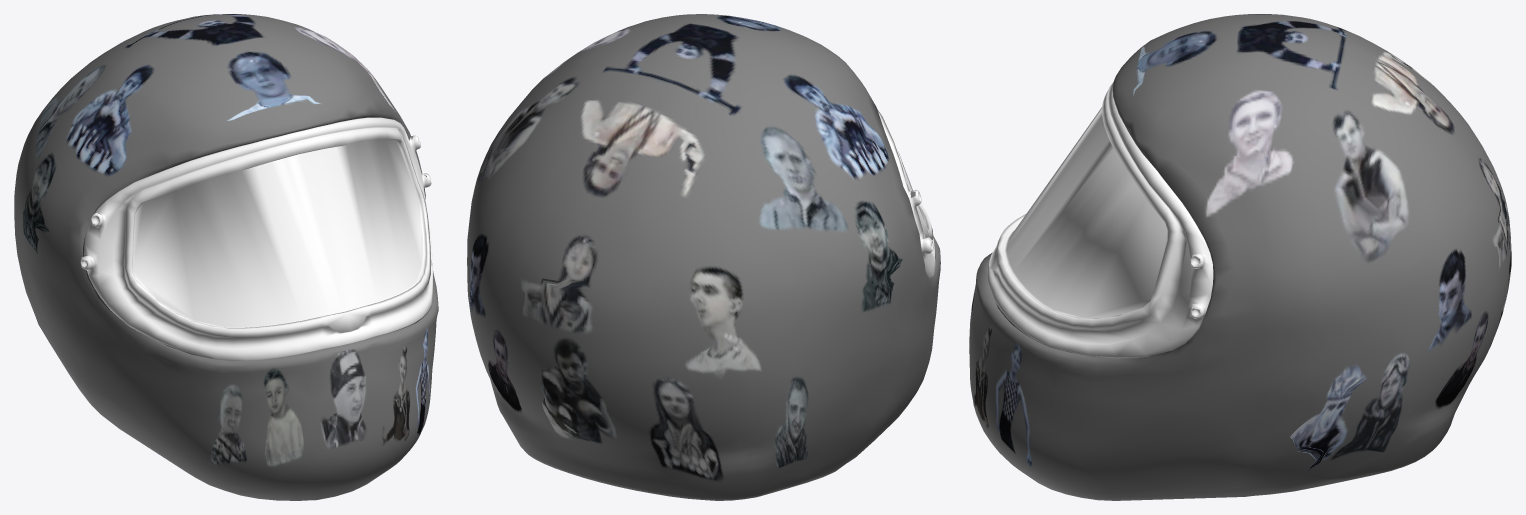
File: CascoVlad13_compressed.glb
3 views of the same model, side by side, from view 1: azimuth 30°, elevation 25°; view 2: azimuth 150°, elevation 25°; view 3: azimuth 270°, elevation 25° (orthographic). The views are drawn at different scales.
Visible parts, largest first — view 1: mesh_rep_0_ori_repair_quad.obj, mesh_rep_0_ori_repair_quad.obj.001; view 2: mesh_rep_0_ori_repair_quad.obj, mesh_rep_0_ori_repair_quad.obj.001; view 3: mesh_rep_0_ori_repair_quad.obj, mesh_rep_0_ori_repair_quad.obj.001.
Part boxes in pixels (left/top/right/bottom): mesh_rep_0_ori_repair_quad.obj: left=14, top=14, right=438, bottom=500; mesh_rep_0_ori_repair_quad.obj.001: left=80, top=117, right=432, bottom=360; mesh_rep_0_ori_repair_quad.obj: left=467, top=14, right=940, bottom=500; mesh_rep_0_ori_repair_quad.obj.001: left=877, top=109, right=935, bottom=278; mesh_rep_0_ori_repair_quad.obj: left=969, top=14, right=1511, bottom=500; mesh_rep_0_ori_repair_quad.obj.001: left=987, top=82, right=1213, bottom=358.
Bounding box in the file's own units: 1.6 × 1.65 × 1.9.
Materials: 2 (1 with a texture image).
